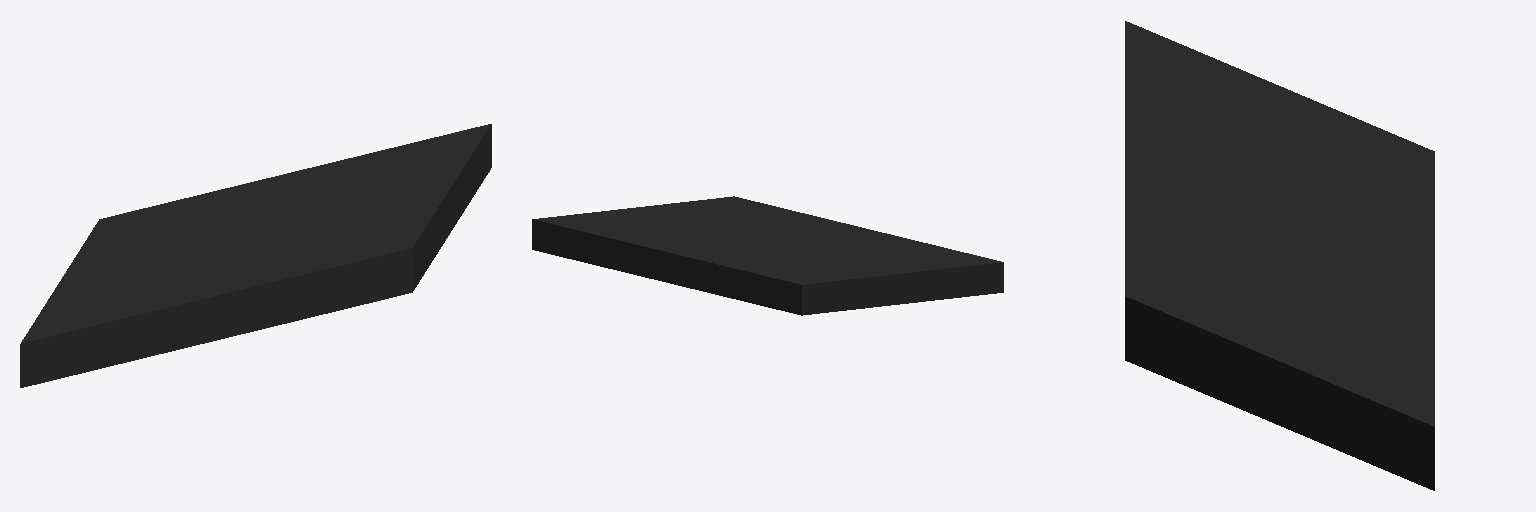
robot.urdf — parallelogram:
<?xml version="1.0" ?>
<robot name="parallelogram">

    <link name="base">
        <contact>
            <lateral_friction value="1.0"/>
            <spinning_friction value="1.0"/>
            <restitution value="0.5"/>
        </contact>
        <inertial>
            <origin rpy="0 0 0" xyz="0 0 0"/>
            <mass value="999999"/>
            <inertia ixx="0.2125" ixy="-0.005" ixz="0.0225" iyy="0.205" iyz="0.045" izz="0.0125"/>
        </inertial>
        <visual>
            <geometry>
                <mesh filename="parallelogram.dae" scale="10 10 10"/>
            </geometry>
            <origin rpy="0 0 0" xyz="0 0 0"/>
            <material name="black">
                <color rgba="0.2 0.2 0.2 1"/>
            </material>
        </visual>
        <collision>
            <geometry>
                 <mesh filename="parallelogram.dae" scale="10 10 50"/>
            </geometry>
            <origin rpy="0 0 0" xyz="0 0 0"/>
        </collision>
    </link>

</robot>

--- Render facts (derived) ---
The picture shows the robot from 3 angles, left to right: view 1: azimuth 30°, elevation 25°; view 2: azimuth 150°, elevation 25°; view 3: azimuth 270°, elevation 25°; orthographic projection.
Robot: parallelogram — 1 links, 0 joints (none); root link base; default pose: all joints at 0.
Visible links, largest first — view 1: base; view 2: base; view 3: base.
Link boxes in pixels (x1,y1,x2,y2): base: [20, 124, 491, 387]; base: [532, 196, 1003, 315]; base: [1125, 21, 1434, 490].
Size in the robot's own frame: 0.8116 by 0.2616 by 0.06 metres.
1 mesh visuals loaded from 1 distinct referenced files (1 Collada DAE).